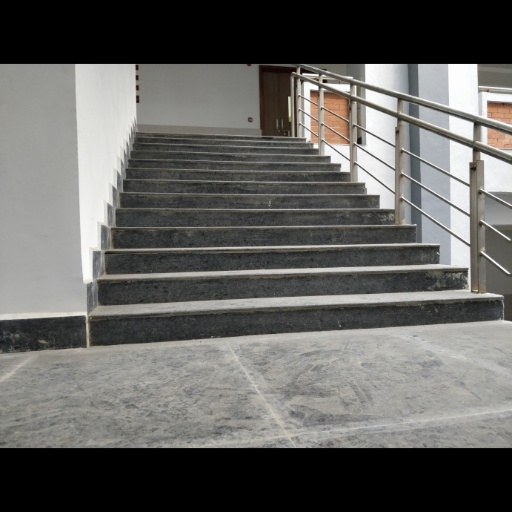Stairs: (89, 134, 503, 345)
